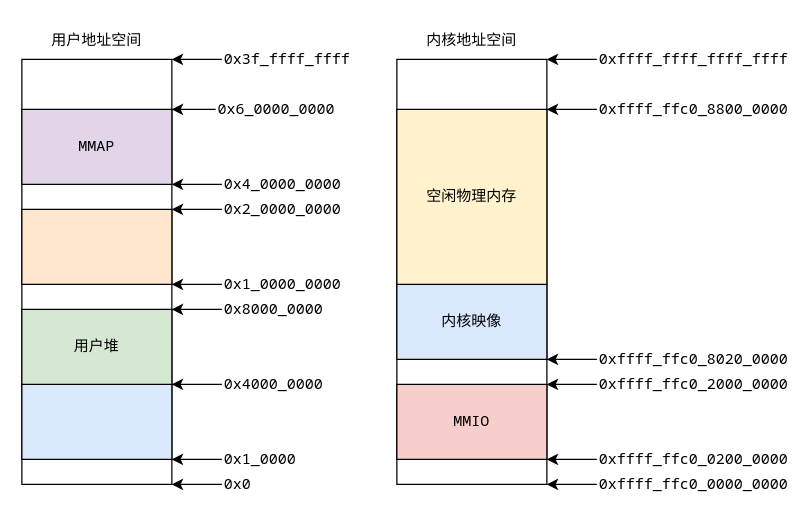
This 810x518 diagram has some shape labels left out. Here are the shapes that lost their labels. From the top down, the centre of each, then its label:
At (96,246): "用户栈".
At (96,421): "用户程序映像".
